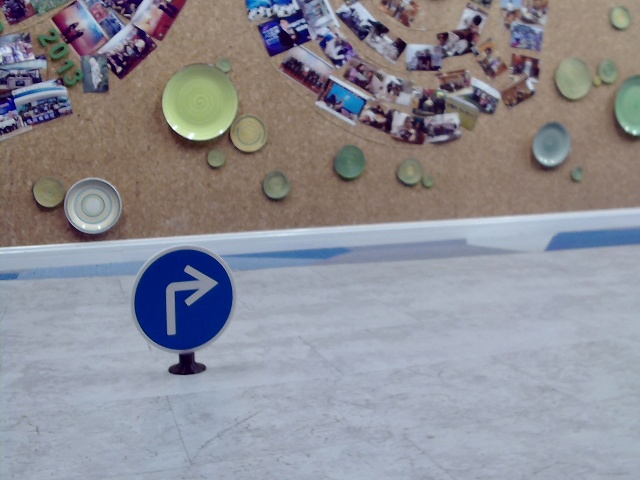turn_right: (158, 263, 215, 339)
